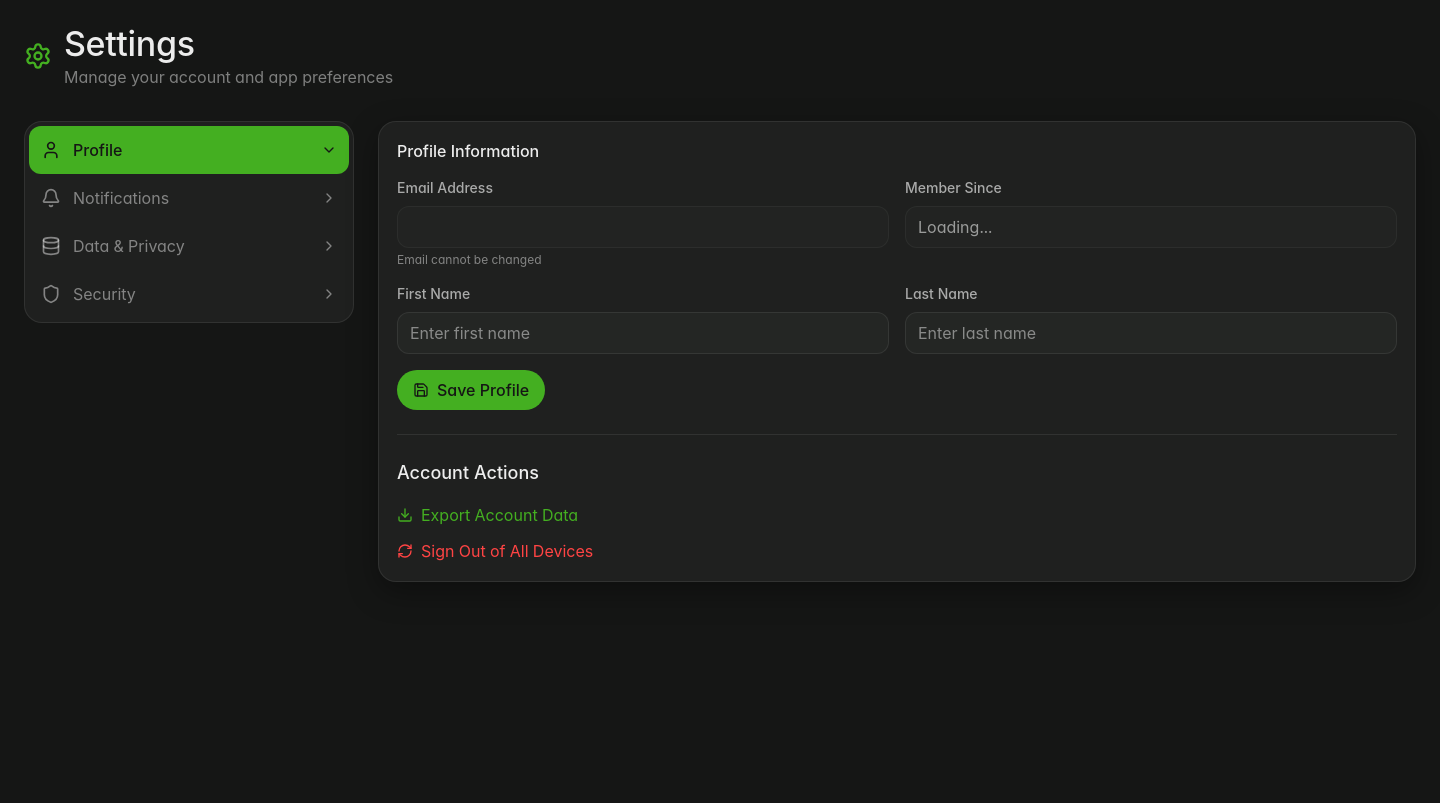
it: Google Drive backup settings › should explain missing server configuration without offering a ready Drive destination
What coordinates should you click on to do the following:
click the button "Data & Privacy"
I would click on:
 (129, 246)
Its box is [29,222,349,270].
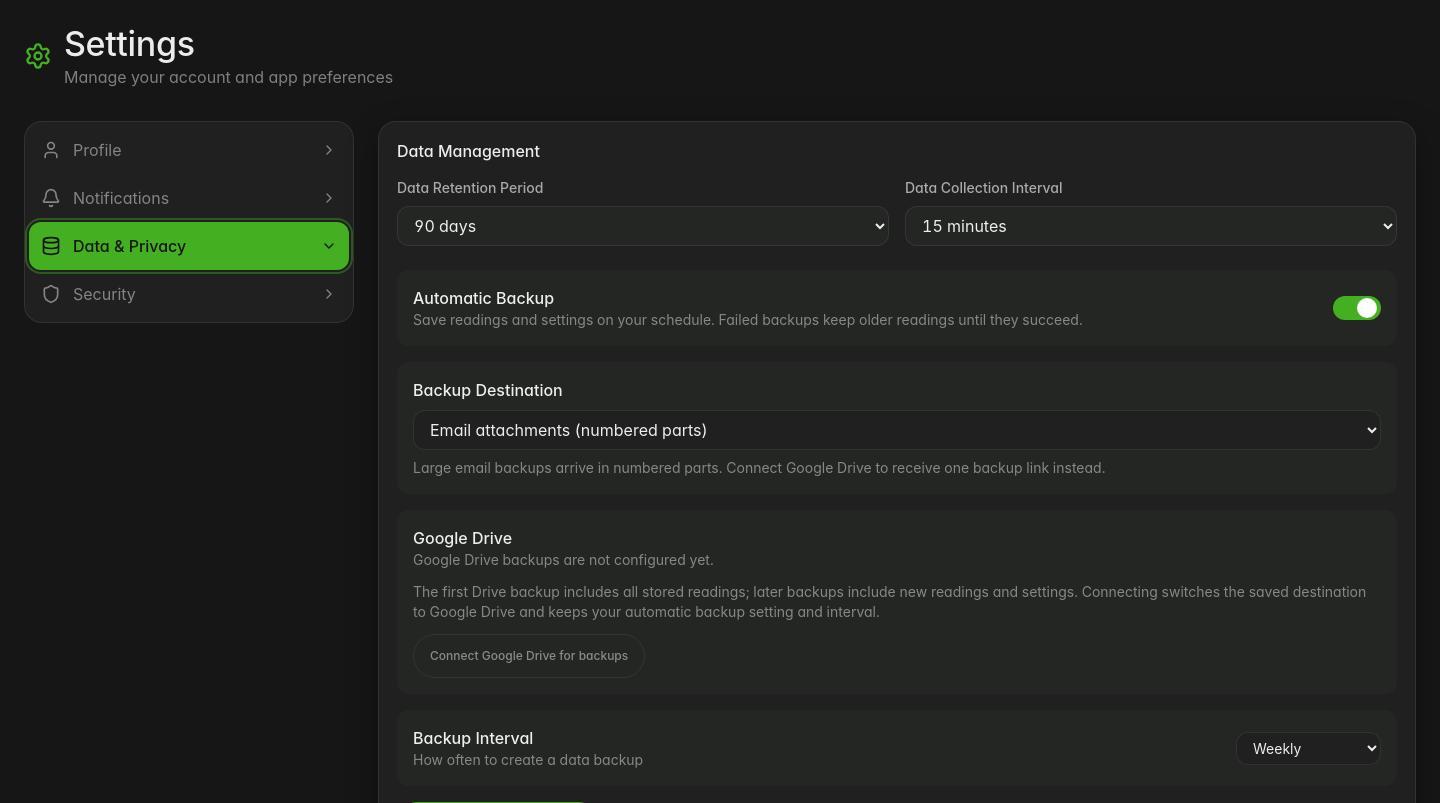
Result: the text "Google Drive backups are not configured yet." is shown at [413,551,714,568]
Result: the button "Connect Google Drive for backups" is disabled at [413,634,645,678]
